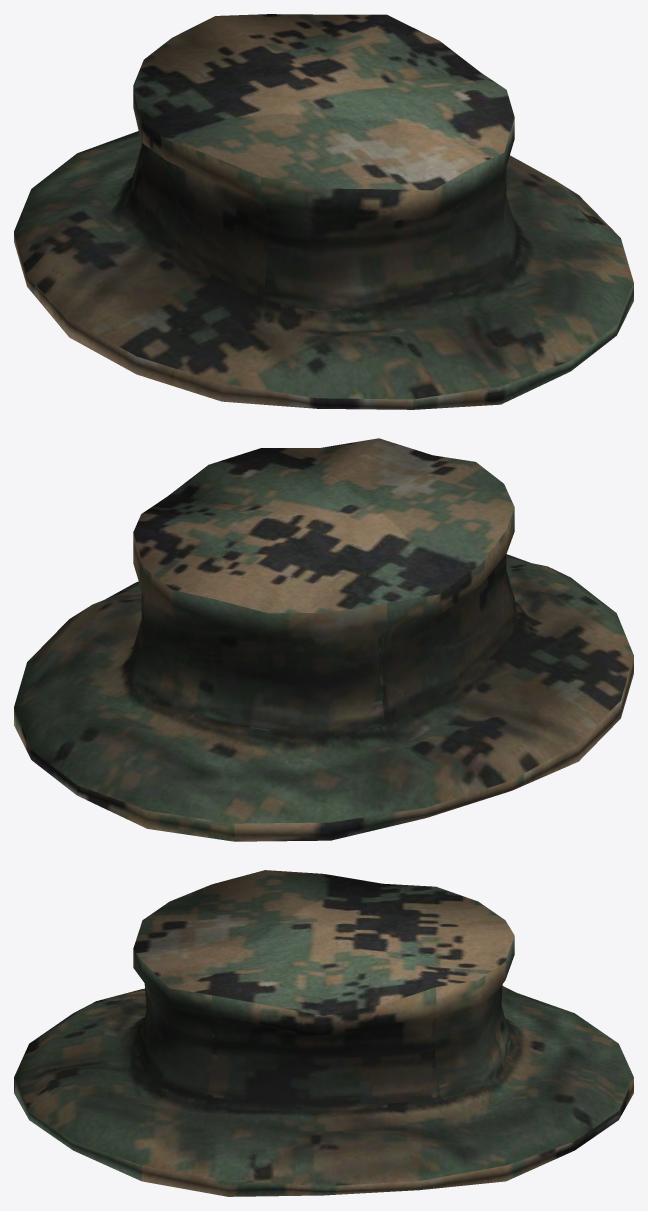
The model's file is hat3.glb.
3 views of the same model, one above another, from view 1: azimuth 30°, elevation 25°; view 2: azimuth 150°, elevation 25°; view 3: azimuth 270°, elevation 25° (orthographic). The views are drawn at different scales.
Parts seen in each view (by area): view 1: pCylinder1; view 2: pCylinder1; view 3: pCylinder1.
Part boxes in pixels (box(x1,y1,x2,y2)): pCylinder1: box(14, 14, 633, 409); pCylinder1: box(14, 438, 633, 841); pCylinder1: box(14, 870, 633, 1196).
Size of the model in its own units: 17.99 by 6.26 by 21.63.
Materials: 1 (1 with a texture image).
